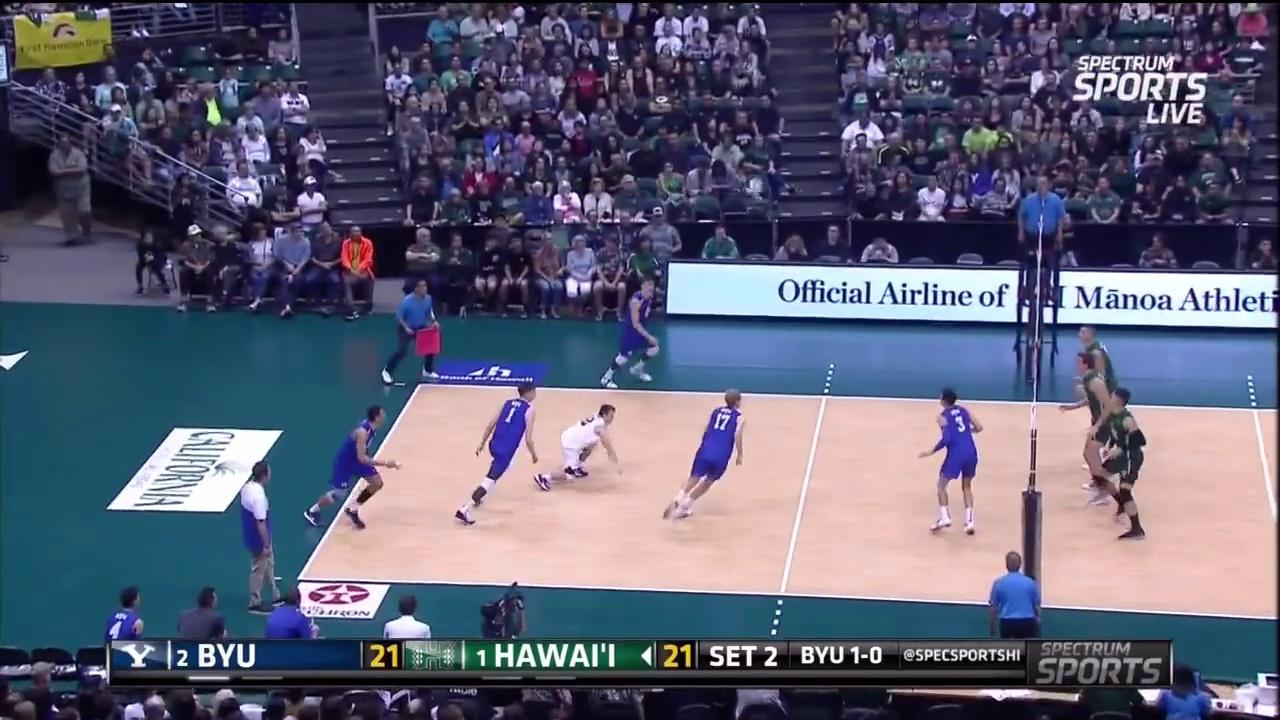player: (451, 383, 546, 528), (303, 401, 395, 532), (663, 391, 748, 520), (918, 389, 981, 531), (1059, 351, 1116, 506), (537, 405, 621, 495), (1104, 384, 1149, 543), (601, 276, 662, 387), (1080, 323, 1120, 487)
refree: (986, 555, 1042, 684), (381, 276, 442, 383), (1017, 174, 1068, 279)
